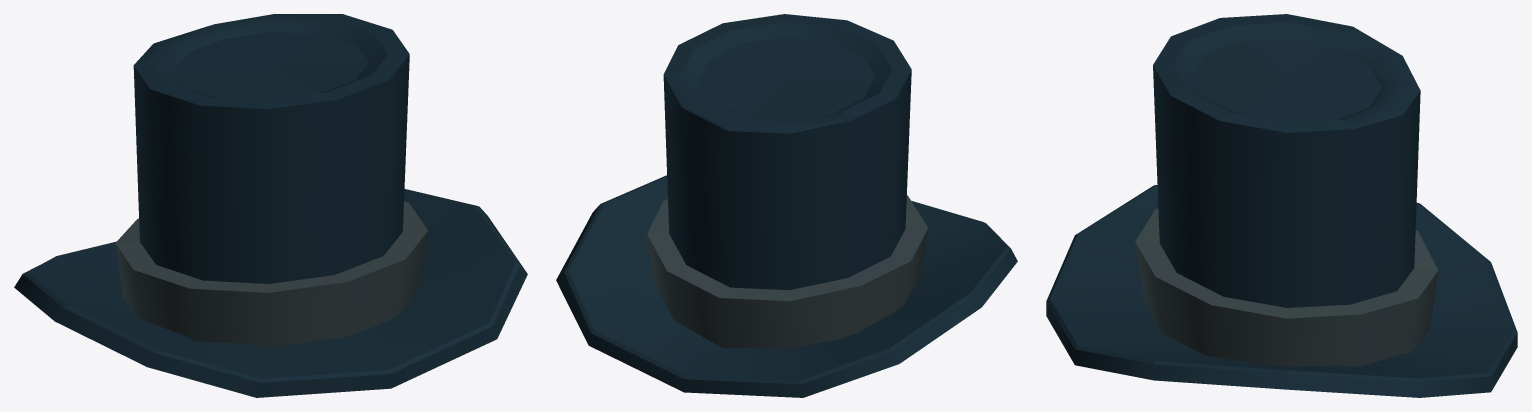
Rendered from chapeu_cartola.fbx.
The picture shows the model from 3 angles, left to right: view 1: azimuth 30°, elevation 25°; view 2: azimuth 150°, elevation 25°; view 3: azimuth 270°, elevation 25°; orthographic projection. The views are drawn at different scales.
Parts seen in each view (by area): view 1: chapeu_cartola; view 2: chapeu_cartola; view 3: chapeu_cartola.
Part boxes in pixels (<box>): chapeu_cartola: <box>14,14,527,397</box>; chapeu_cartola: <box>556,14,1017,397</box>; chapeu_cartola: <box>1046,14,1517,397</box>.
Size of the model in its own units: 51.55 by 32.07 by 48.4.
